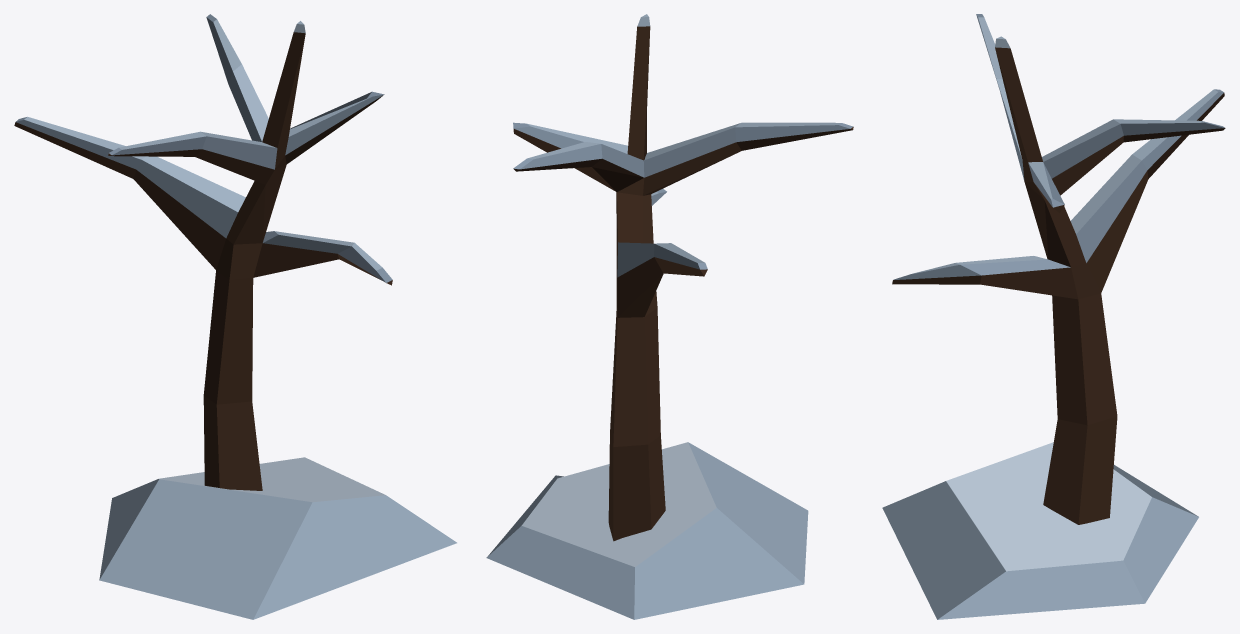
File: TreeWinter7_Alt4.fbx
3 renders of one model, left to right at view 1: azimuth 30°, elevation 25°; view 2: azimuth 150°, elevation 25°; view 3: azimuth 270°, elevation 25°, orthographic. The views are drawn at different scales.
Parts seen in each view (by area): view 1: TreeWinter7_Alt4; view 2: TreeWinter7_Alt4; view 3: TreeWinter7_Alt4.
Boxes of the visible parts, x1,y1,x2,y2 form: TreeWinter7_Alt4: [14, 14, 456, 619]; TreeWinter7_Alt4: [486, 14, 853, 619]; TreeWinter7_Alt4: [882, 14, 1225, 619].
Bounding box in the file's own units: 1.35 × 2.07 × 1.24.
